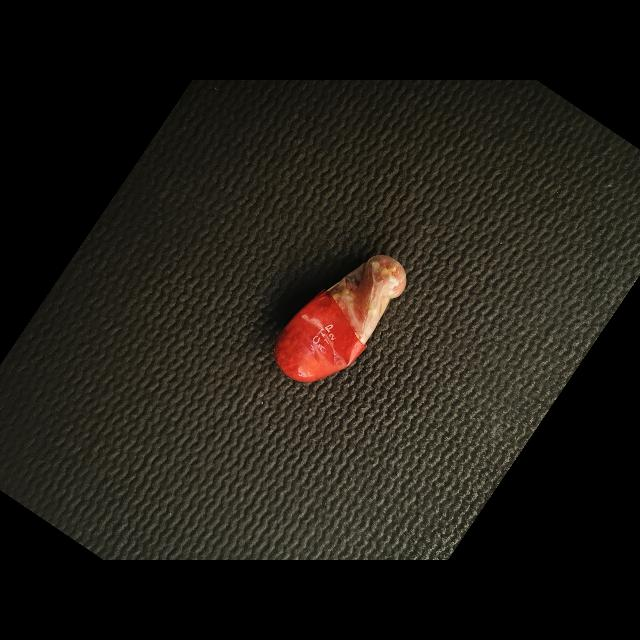Defective Capsule: (274, 255, 406, 382)
